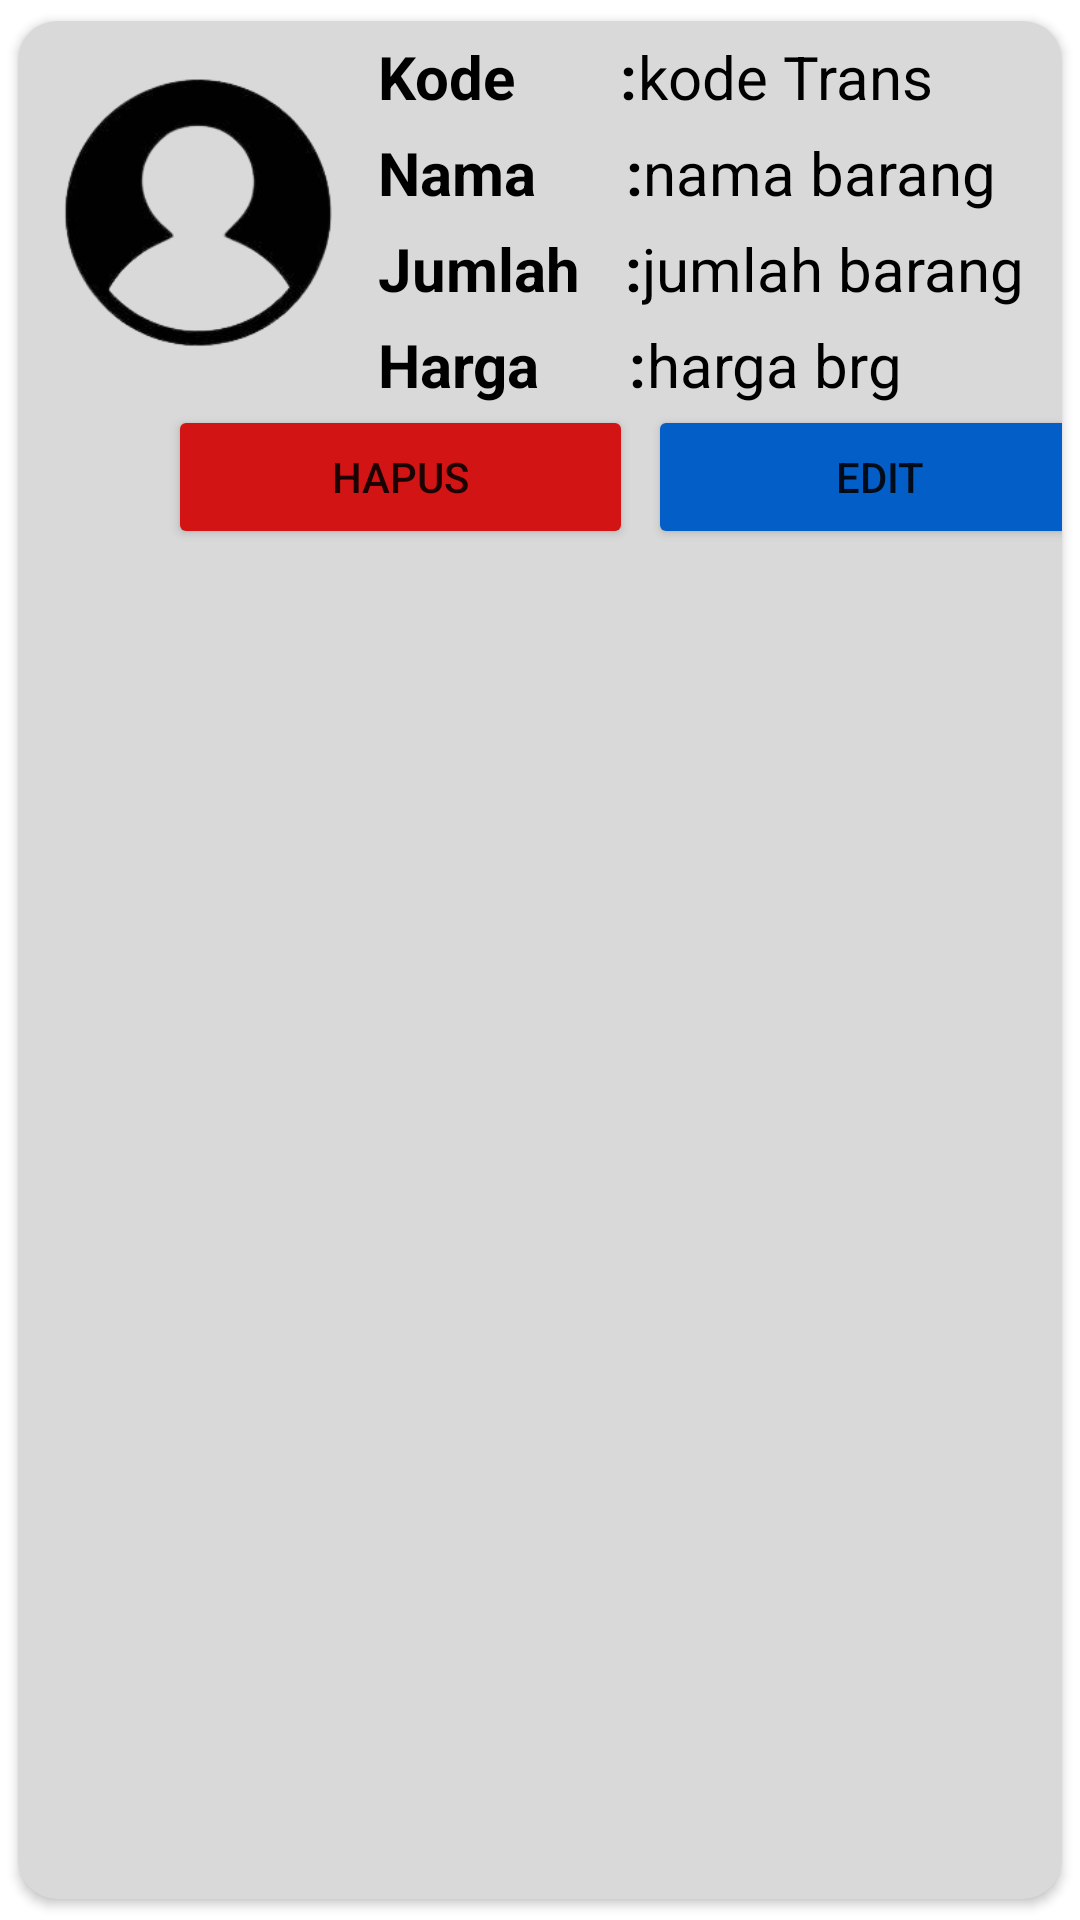

Icons on this 1080 x 1920 Android screen, each with the point to tap as (x,y):
propile: (198,212)
